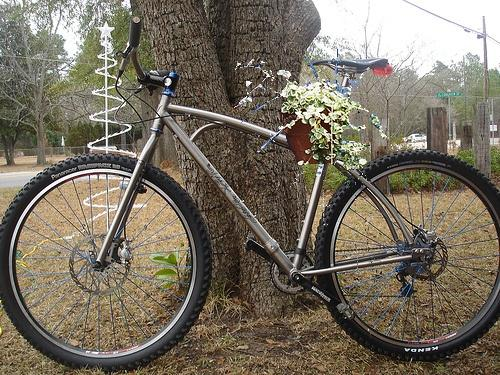tampered: (235, 50, 390, 353)
